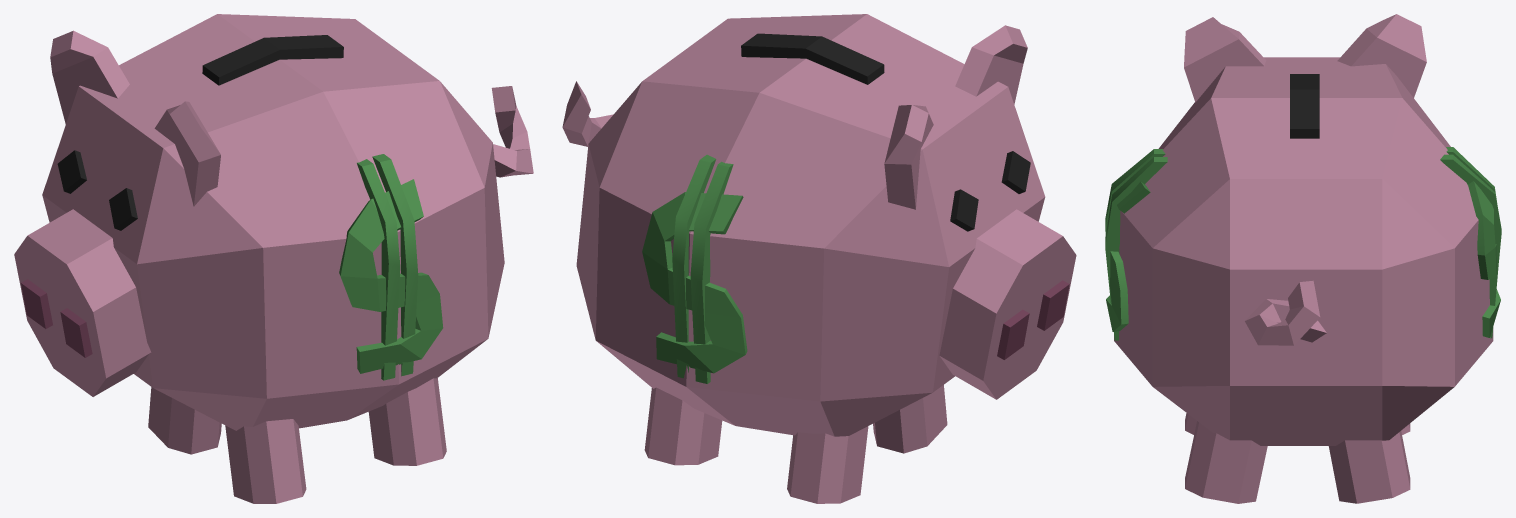
Rendered from piggy.fbx.
3 renders of one model, left to right at view 1: azimuth 30°, elevation 25°; view 2: azimuth 150°, elevation 25°; view 3: azimuth 270°, elevation 25°, orthographic. The views are drawn at different scales.
Visible parts, largest first — view 1: polySurface23; view 2: polySurface23; view 3: polySurface23.
Part boxes in pixels (box(x1,y1,x2,y2)): polySurface23: box(14, 14, 533, 503); polySurface23: box(562, 14, 1076, 503); polySurface23: box(1105, 14, 1501, 503).
Size of the model in its own units: 0.6336 by 0.5428 by 0.5107.
